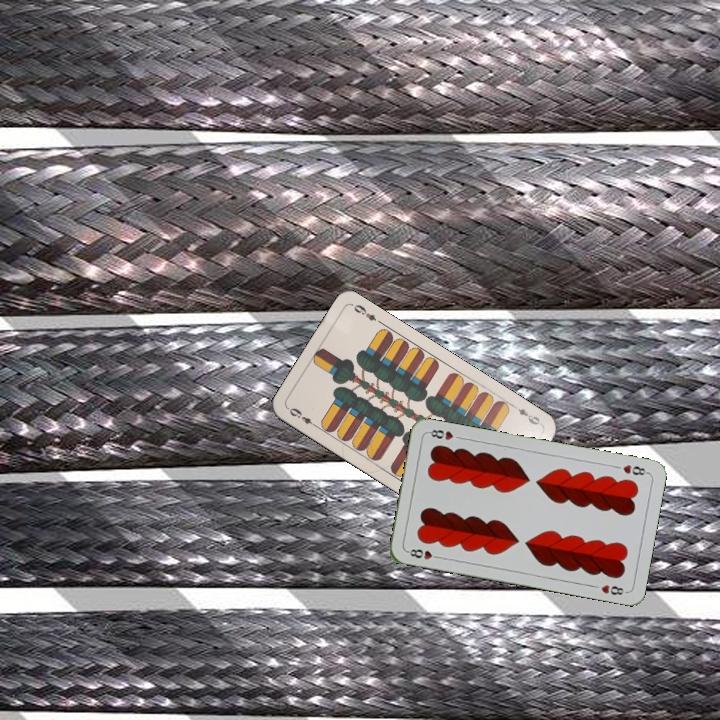E9: (285, 404, 320, 430), (508, 401, 542, 427)
H8: (403, 545, 444, 562), (619, 460, 651, 478)
